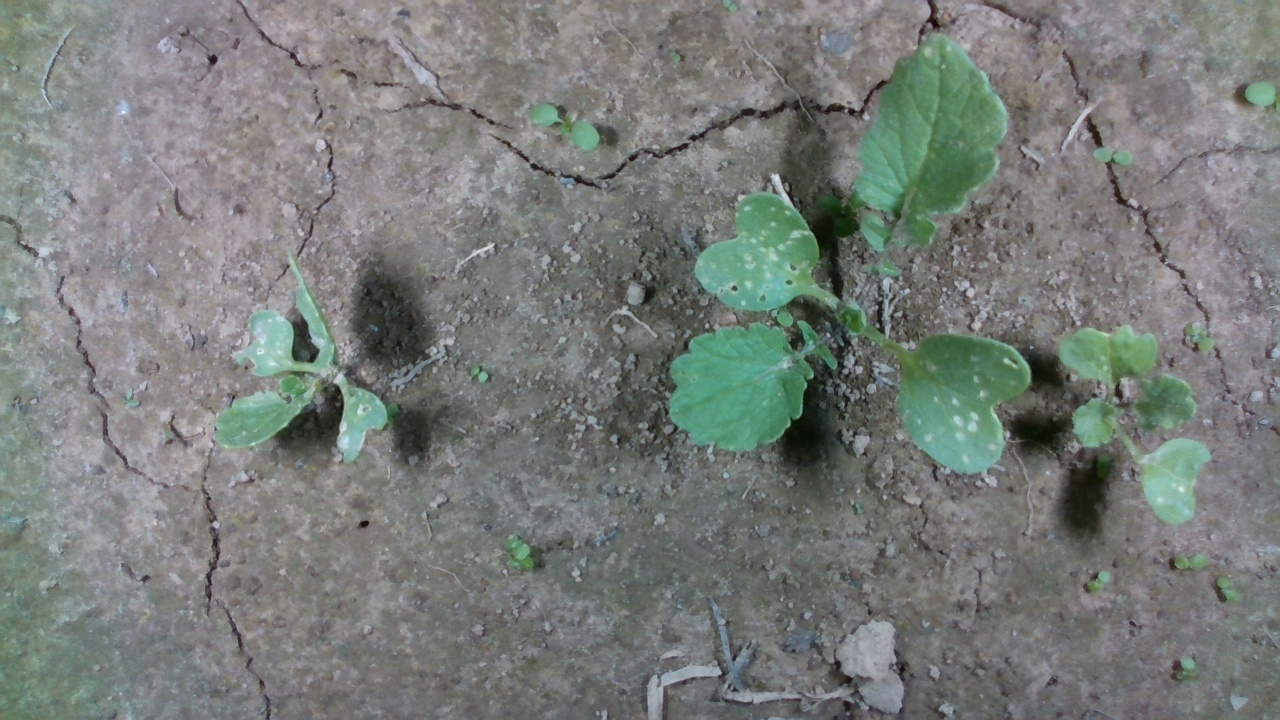weed: (524, 95, 597, 154), (500, 525, 543, 577), (1177, 318, 1217, 365), (1088, 136, 1140, 171), (1166, 648, 1202, 681), (119, 384, 147, 423), (1166, 548, 1201, 578), (1088, 565, 1112, 597), (466, 361, 491, 390)
